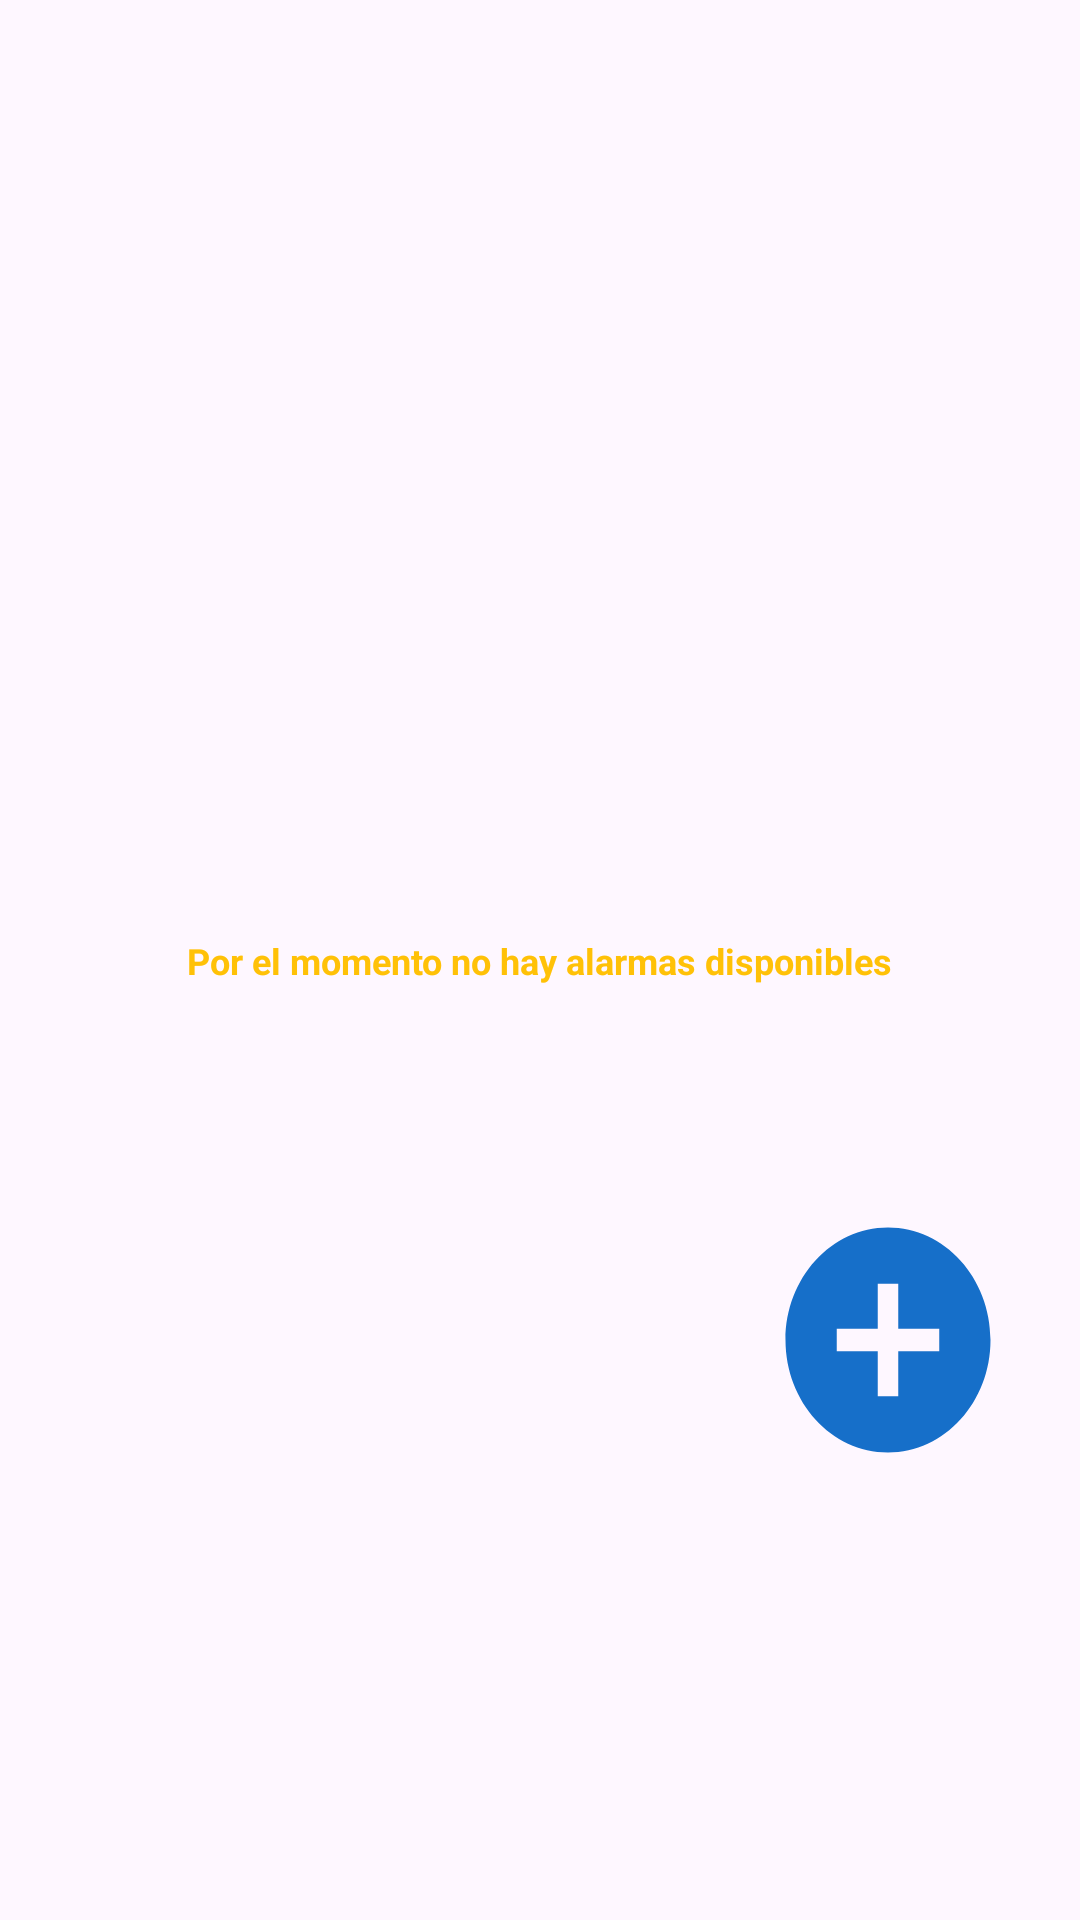

Locate icon controls on the screen. Image size 1080px x 1920px, boxes as (x1, y1, x2, y2).
add circle: (785, 1227, 991, 1453)
